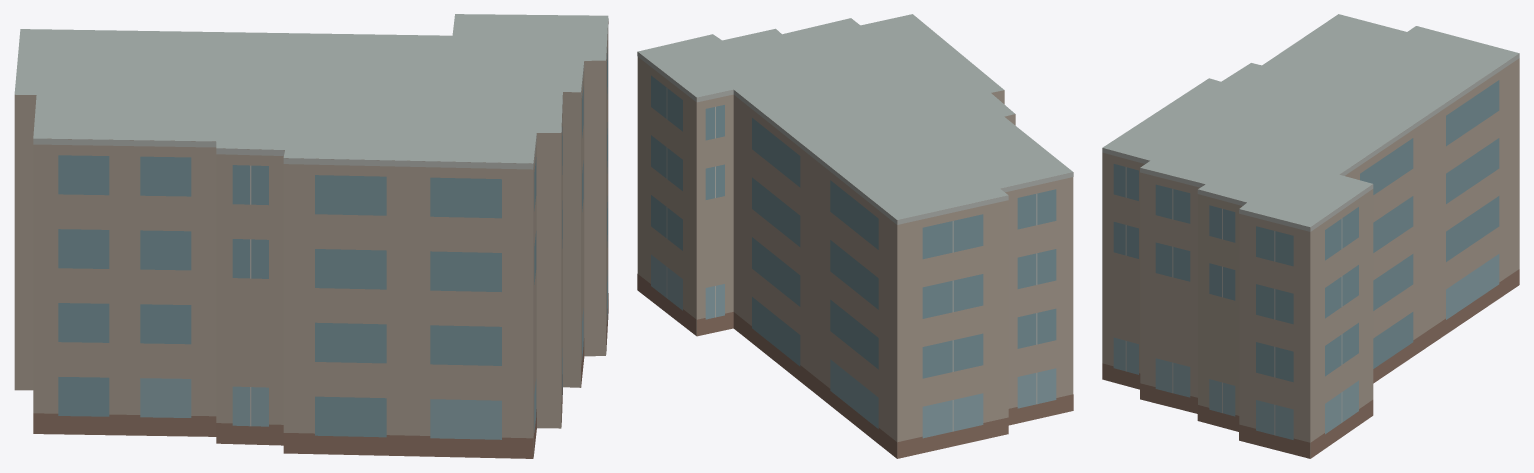
File: survey-upis-32506234.glb
3 renders of one model, left to right at view 1: azimuth 30°, elevation 25°; view 2: azimuth 150°, elevation 25°; view 3: azimuth 270°, elevation 25°, orthographic. The views are drawn at different scales.
Visible parts, largest first — view 1: survey-upis-32506234.tmp; view 2: survey-upis-32506234.tmp; view 3: survey-upis-32506234.tmp.
Boxes of the visible parts, x1,y1,x2,y2 form: survey-upis-32506234.tmp: [14, 14, 608, 458]; survey-upis-32506234.tmp: [637, 14, 1073, 458]; survey-upis-32506234.tmp: [1102, 14, 1519, 458].
Size of the model in its own units: 23.62 by 11.96 by 19.54.
